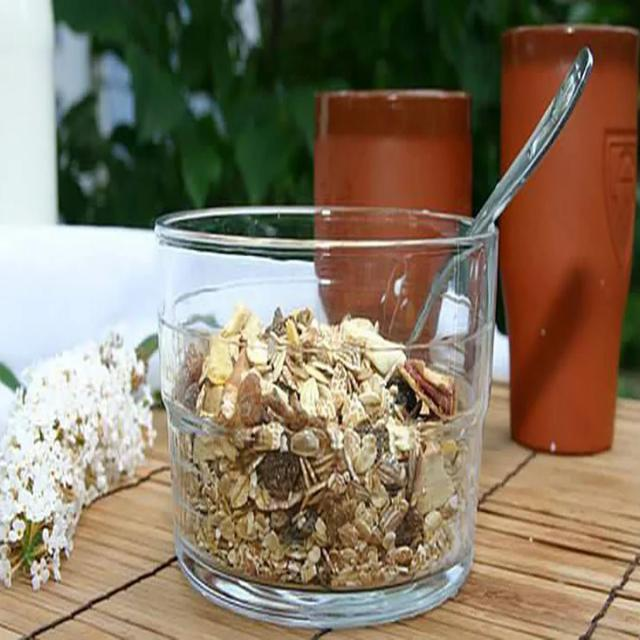avena: (159, 289, 490, 612)
